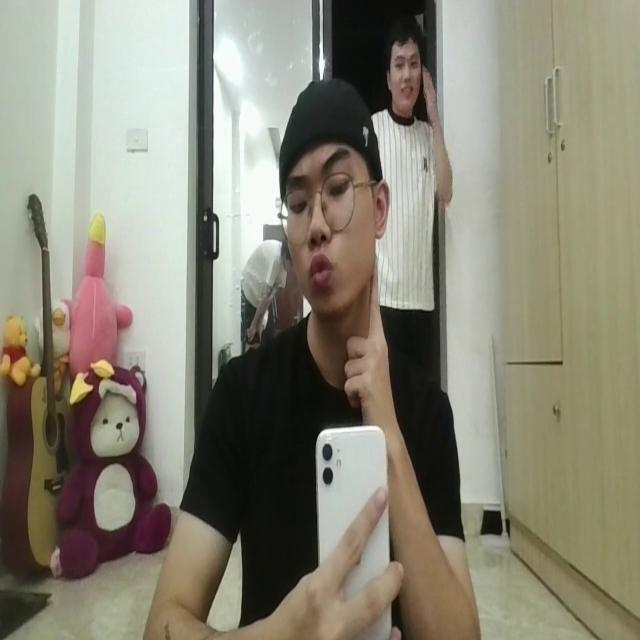extra_person: (364, 11, 445, 387)
phone: (311, 410, 398, 640)
student: (141, 83, 477, 640)
